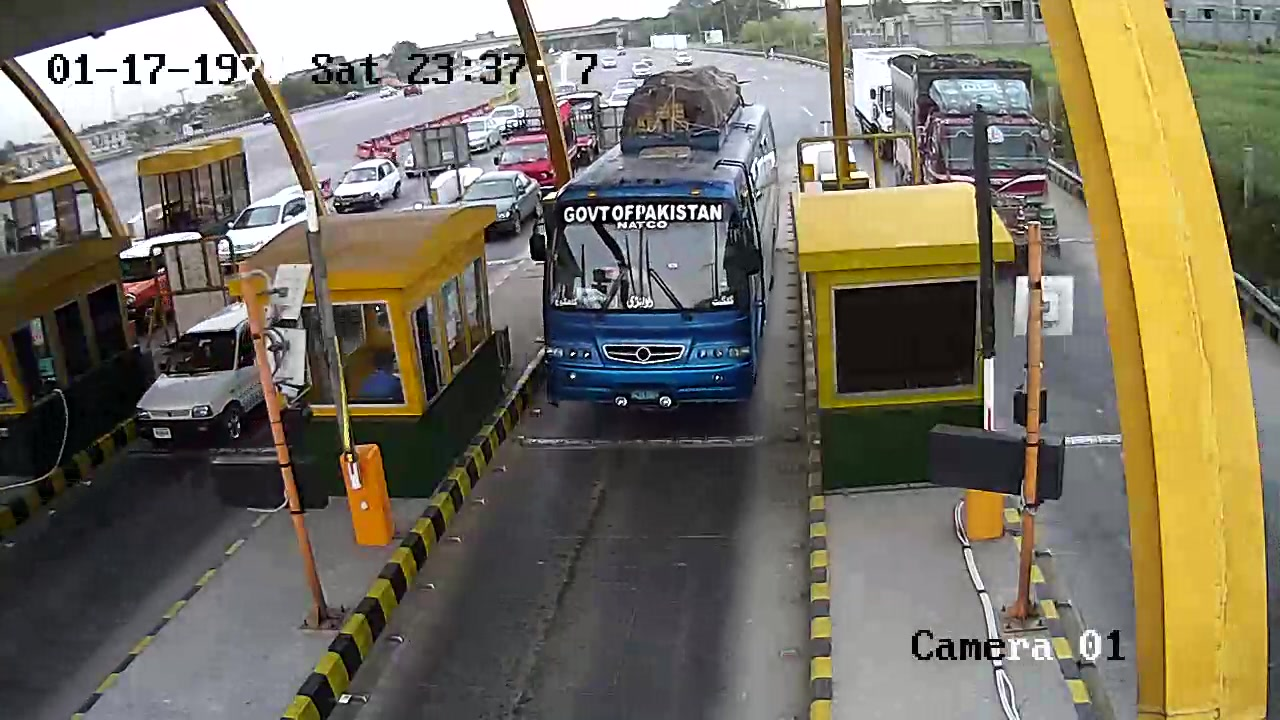F4: (538, 71, 782, 421)
